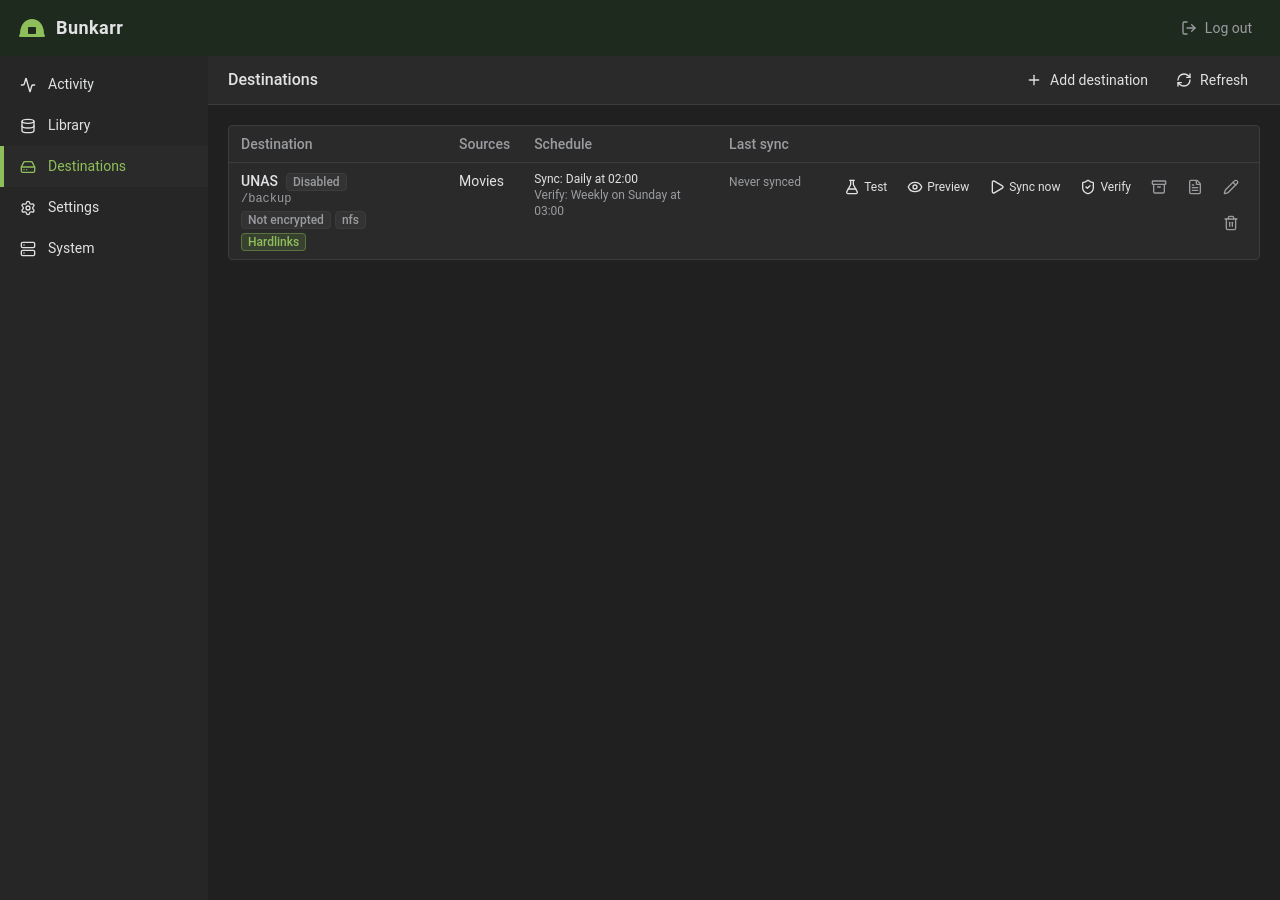
Test: Manifests dialog › offers no export for a disabled destination
Step 1. Click the button named "Manifests on " → coordinates (1195, 187), box [1179,171,1211,203]
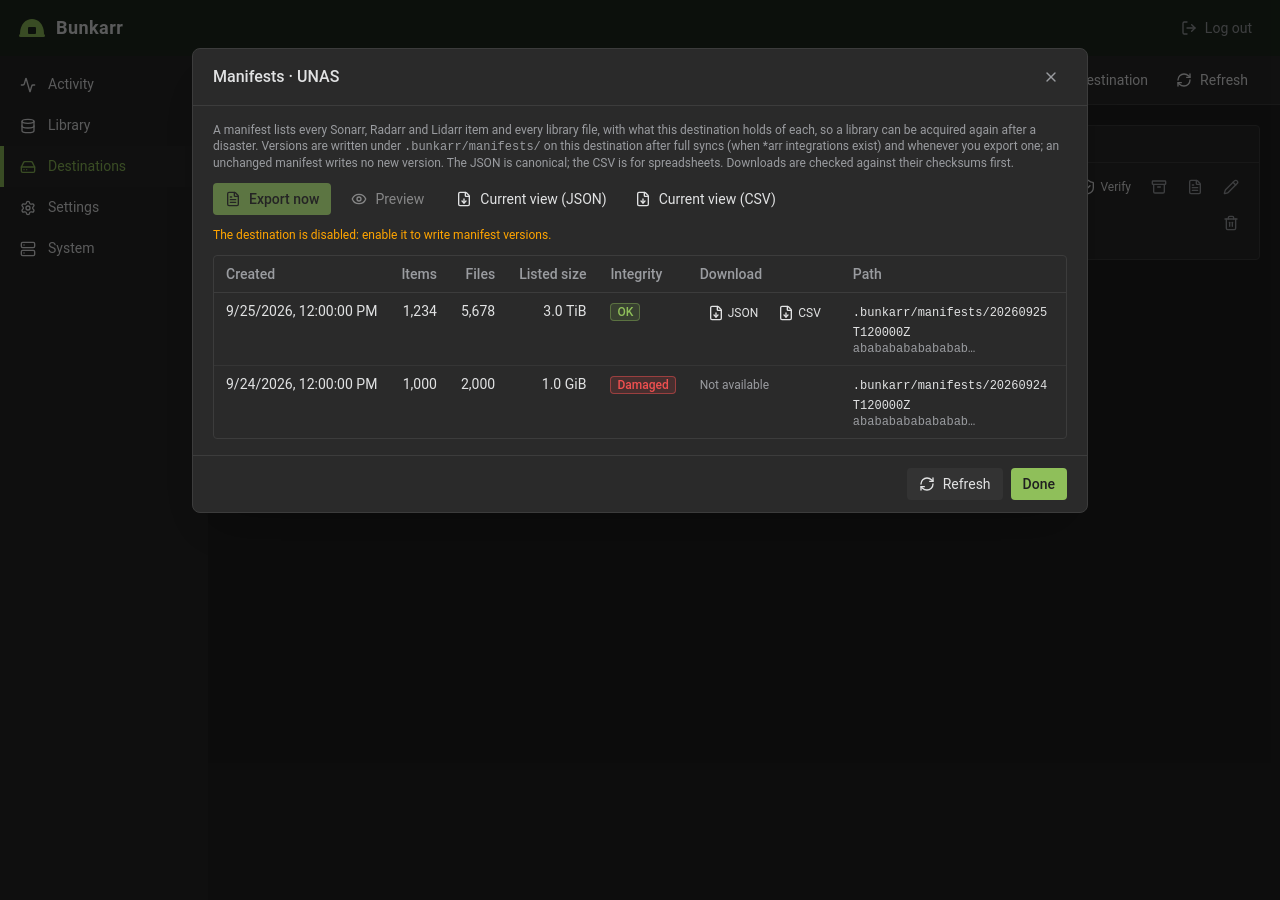
Now the button "Export now" is disabled, box [213,183,331,215]
Now the text "The destination is disabled" is shown, box [213,228,551,242]
